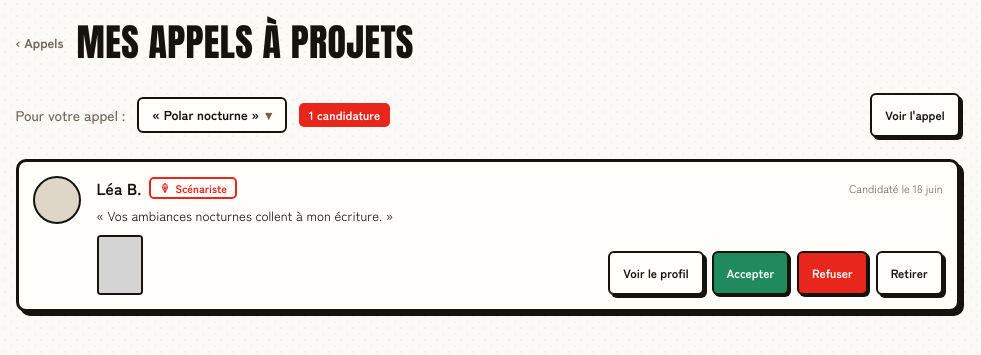
Test: CandidaturesRecuesClient (MC-7) › shows an inline error and re-enables the buttons when a decision fails
The width and height of the screenshot is (981, 355).
Expected: the text "« Polar nocturne »" is shown, [152,105,259,125]
Click the button with aria-label "Accepter la candidature de Léa B." at x=750, y=272, box [712,250,789,294]
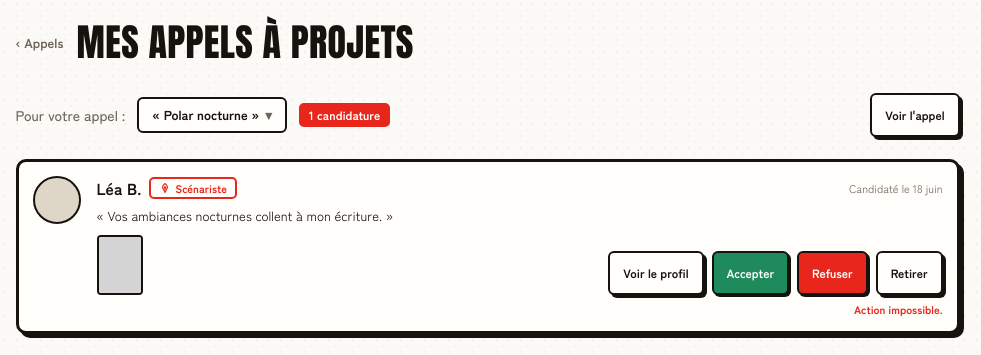
Expected: the button with aria-label "Refuser la candidature de Léa B." is enabled, [797,250,868,294]
Result: the message reads "Action impossible." at [854,300,942,316]
